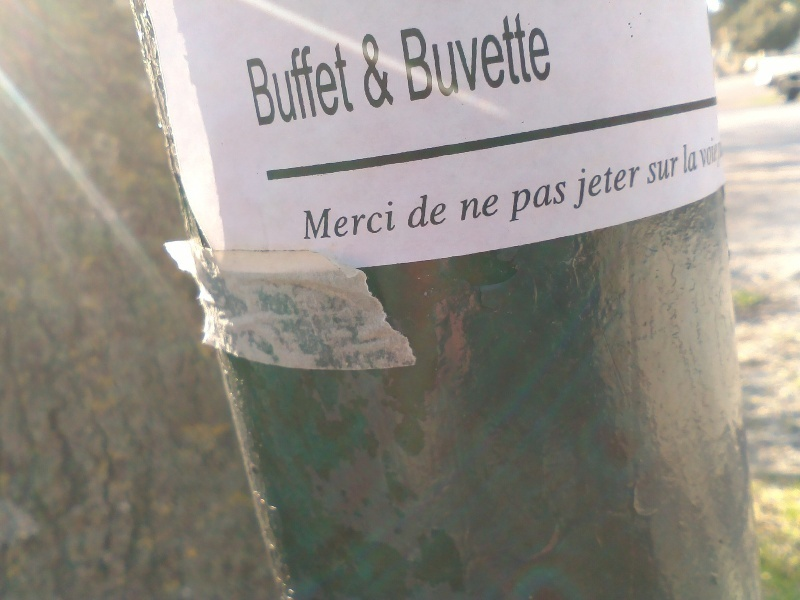text: (401, 9, 416, 103), (417, 9, 432, 103), (433, 9, 448, 103), (449, 9, 464, 103), (465, 9, 480, 103), (481, 9, 496, 103), (497, 9, 512, 103), (513, 9, 528, 103), (529, 9, 544, 103), (257, 39, 272, 129), (273, 39, 288, 129), (289, 39, 304, 129), (305, 39, 320, 129), (321, 39, 336, 129), (337, 39, 352, 129), (353, 28, 368, 114), (369, 28, 384, 114), (385, 28, 400, 114), (243, 39, 256, 129), (545, 9, 557, 103), (577, 158, 592, 213), (593, 158, 608, 213), (609, 158, 624, 213), (625, 158, 640, 213), (513, 180, 528, 226), (529, 180, 544, 226), (545, 180, 560, 226), (305, 199, 320, 242), (321, 199, 336, 242), (337, 199, 352, 242), (353, 199, 368, 242), (369, 199, 384, 242), (385, 199, 399, 242), (417, 192, 432, 232), (433, 192, 448, 232), (705, 135, 721, 172), (657, 154, 672, 190), (465, 191, 480, 224), (481, 191, 496, 224), (689, 142, 702, 179), (561, 180, 570, 226), (396, 9, 400, 103), (407, 192, 416, 232), (679, 142, 688, 179), (647, 154, 656, 190), (353, 39, 356, 129), (673, 154, 680, 190), (350, 28, 352, 114), (497, 191, 502, 224), (641, 158, 644, 213), (700, 135, 704, 172), (574, 158, 576, 213), (461, 191, 464, 224), (302, 199, 304, 242), (401, 28, 402, 114), (449, 192, 450, 232)
